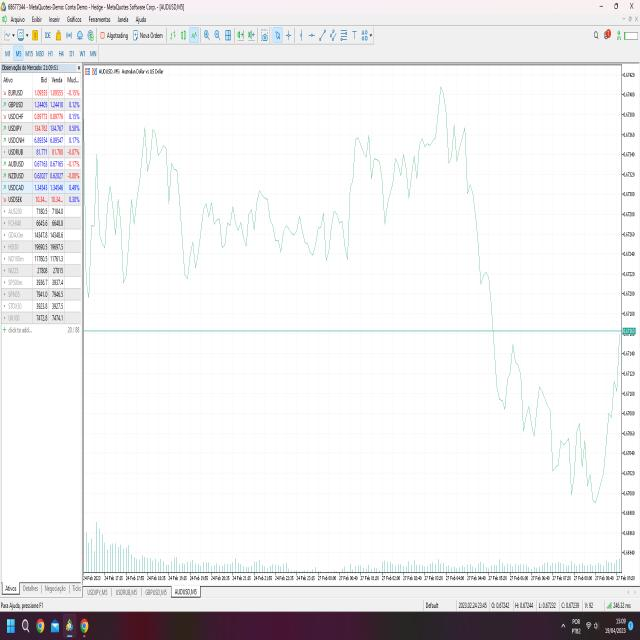fundo_duplo: (512, 322, 546, 456)
topo_duplo: (387, 143, 412, 230)
